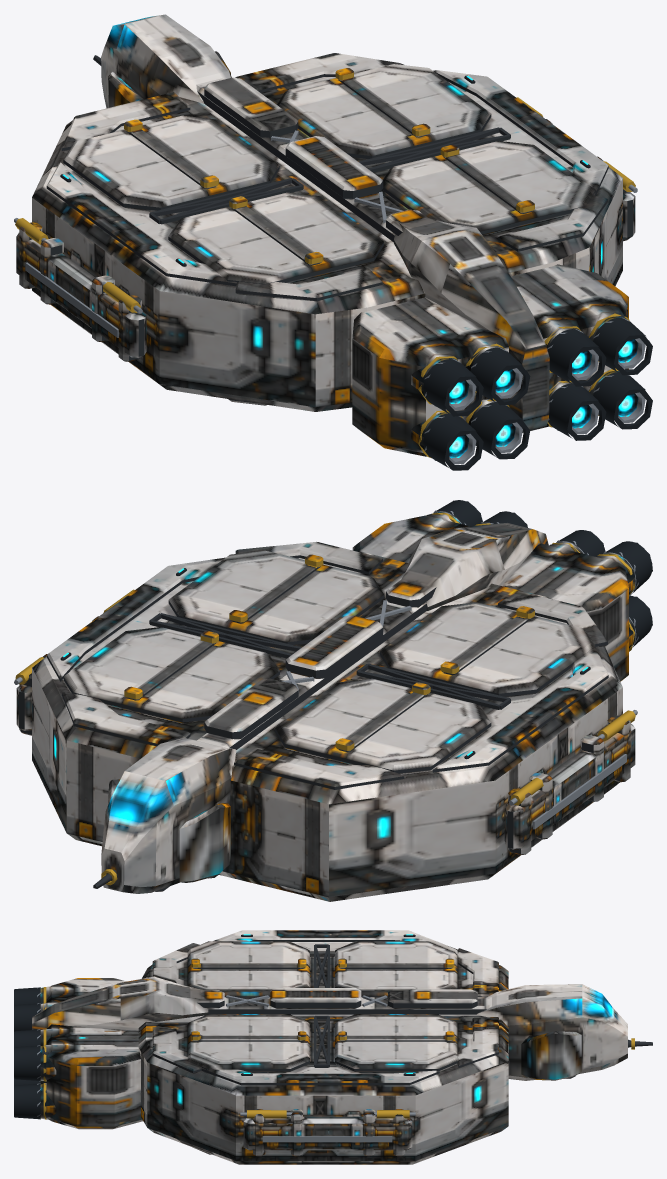
The model's file is heavy-freighter-lod2.glb.
The picture shows the model from 3 angles, top to bottom: view 1: azimuth 30°, elevation 25°; view 2: azimuth 150°, elevation 25°; view 3: azimuth 270°, elevation 25°; orthographic projection. The views are drawn at different scales.
Visible parts, largest first — view 1: Static / Reference artwork | titanium, brass, panels and can, Static / Structural rails | dark alloy, Static / Structural frames | gunmetal, Static / Machined titanium edges, Static / Warm brass collars, Static / Ventral armor | dedicated bottom-view reference; view 2: Static / Reference artwork | titanium, brass, panels and can, Static / Structural frames | gunmetal, Static / Structural rails | dark alloy, Static / Ventral armor | dedicated bottom-view reference, Static / Warm brass collars, Static / Machined titanium edges; view 3: Static / Reference artwork | titanium, brass, panels and can, Static / Structural frames | gunmetal, Static / Structural rails | dark alloy, Static / Ventral armor | dedicated bottom-view reference, Static / Machined titanium edges, Static / Warm brass collars.
Part boxes in pixels (box(x1,y1,x2,y2)): Static / Reference artwork | titanium, brass, panels and can: box(16, 14, 638, 458); Static / Structural rails | dark alloy: box(60, 75, 652, 470); Static / Structural frames | gunmetal: box(29, 55, 632, 403); Static / Machined titanium edges: box(14, 130, 645, 464); Static / Warm brass collars: box(15, 72, 635, 457); Static / Ventral armor | dedicated bottom-view reference: box(23, 80, 632, 457); Static / Reference artwork | titanium, brass, panels and can: box(16, 512, 635, 897); Static / Structural frames | gunmetal: box(19, 551, 620, 891); Static / Structural rails | dark alloy: box(60, 500, 652, 759); Static / Ventral armor | dedicated bottom-view reference: box(20, 566, 634, 901); Static / Warm brass collars: box(15, 512, 635, 885); Static / Machined titanium edges: box(14, 510, 638, 829); Static / Reference artwork | titanium, brass, panels and can: box(32, 930, 627, 1160); Static / Structural frames | gunmetal: box(152, 940, 652, 1153); Static / Structural rails | dark alloy: box(14, 934, 415, 1119); Static / Ventral armor | dedicated bottom-view reference: box(40, 967, 627, 1164); Static / Machined titanium edges: box(37, 987, 415, 1142); Static / Warm brass collars: box(43, 963, 634, 1119).
Size of the model in its own units: 9.63 by 2.8 by 14.86.
Materials: 7 (2 with a texture image).
